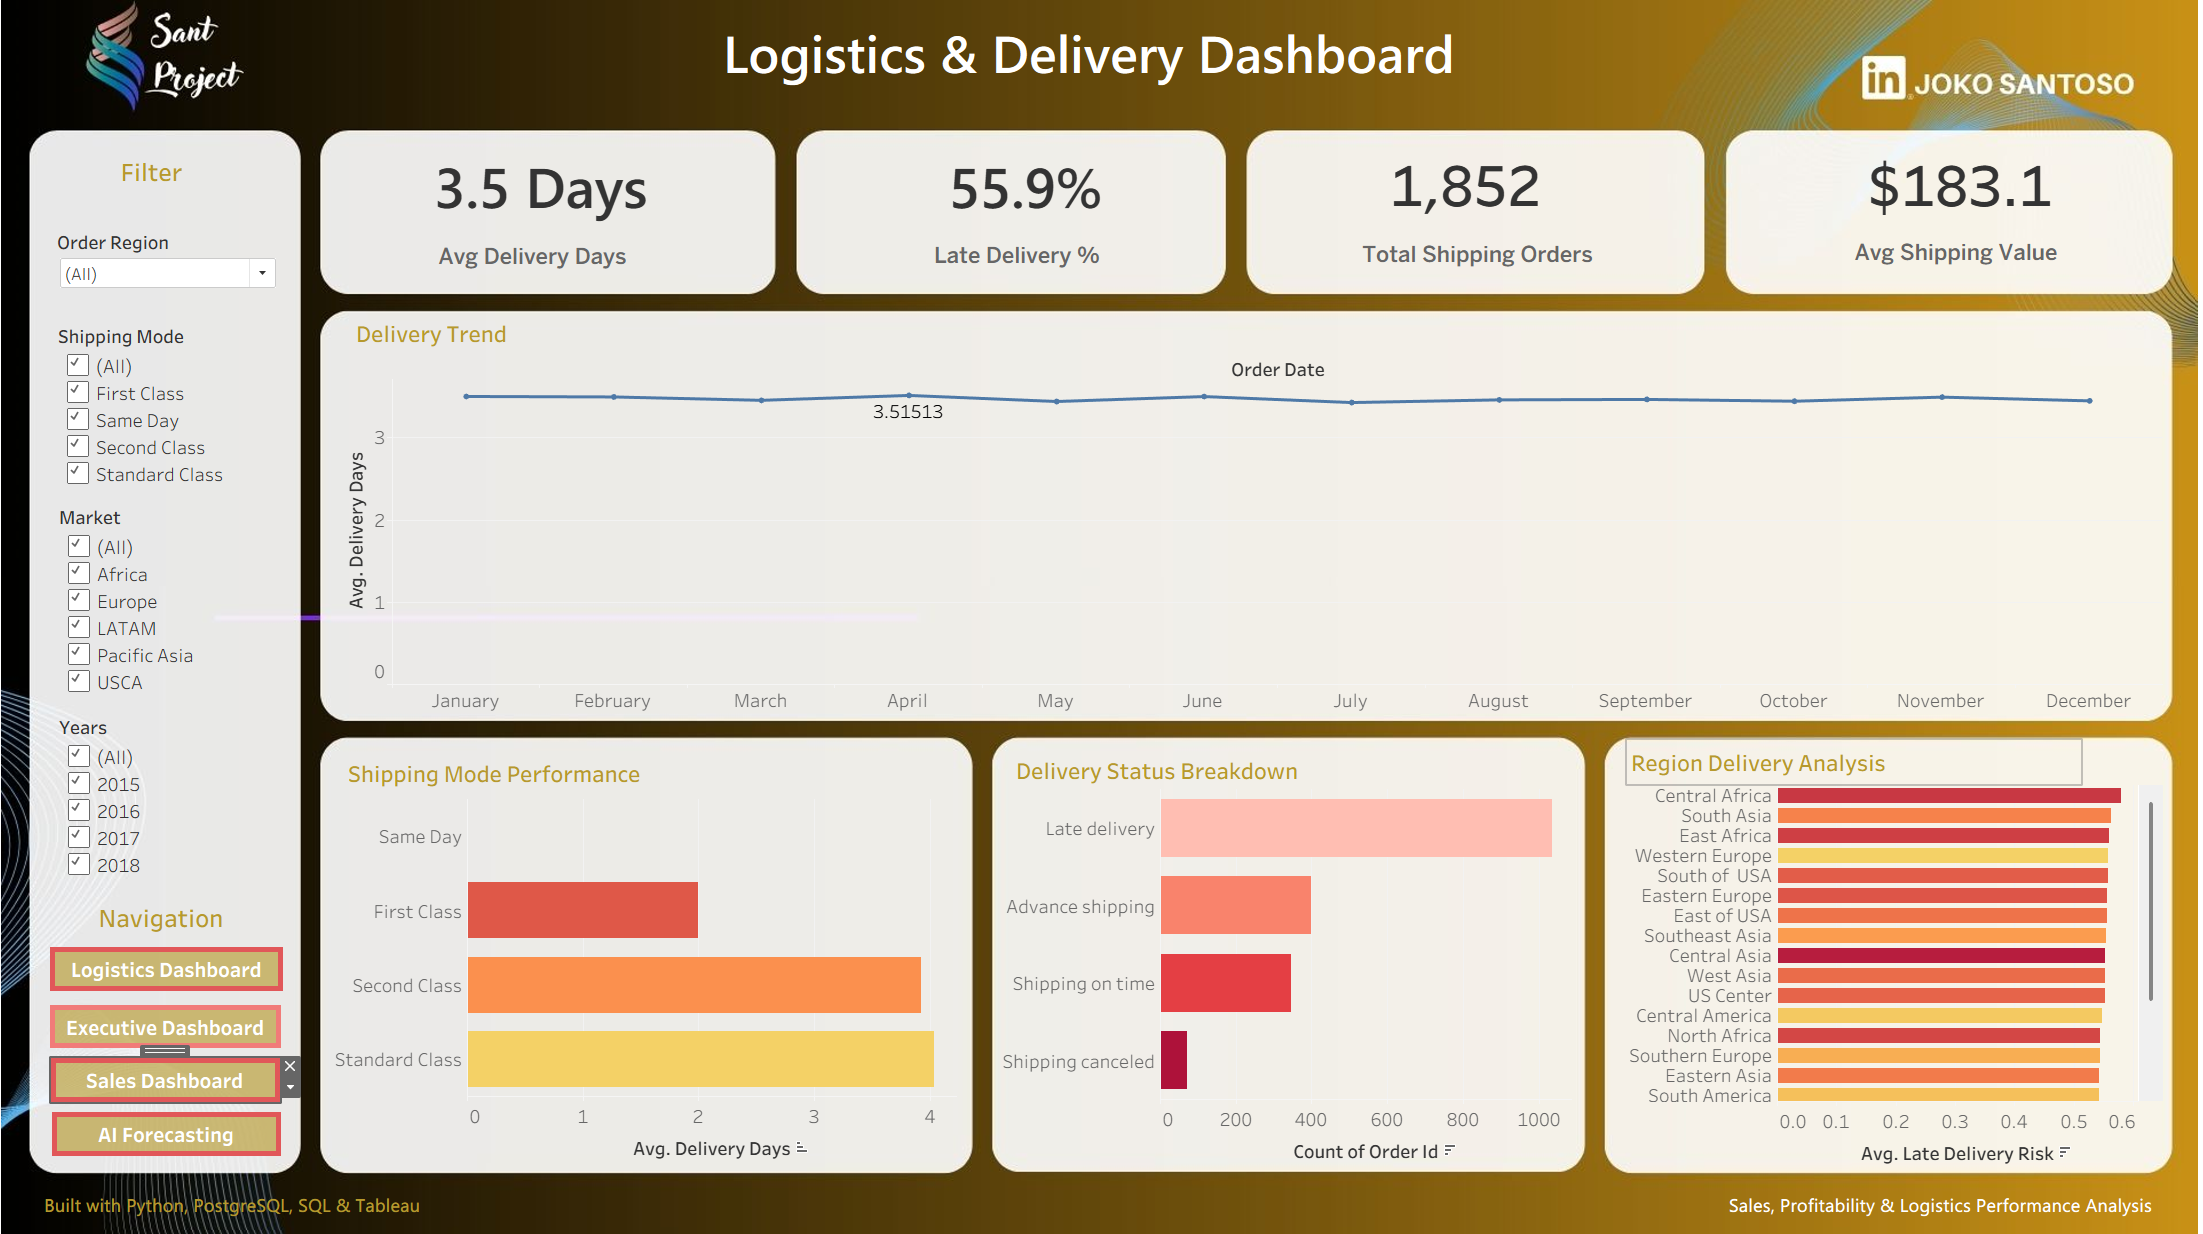

Layout of this report page (visuals, bound fields, positions):
{"tool":"tableau","page":{"name":"Logistics & Delivery Dashboard","canvas":[2220,1360],"ordinal":2},"visuals":[{"type":"text","box":[407,86.1,1386,127.1]},{"type":"worksheet","title":"KPI Total Shipping Orders","mark":"Automatic","box":[1396,242.9,220,97.4]},{"type":"worksheet","title":"KPI Avg Shipping Cost","mark":"Automatic","box":[1834,243,260,84]},{"type":"worksheet","title":"KPI Avg Delivery Days","mark":"Automatic","box":[411,246,262,81]},{"type":"worksheet","title":"KPI Late Delivery %","mark":"Automatic","box":[938,246,196,86.1]},{"type":"text","box":[103,252.1,119,33.8]},{"type":"filter","title":"Shipping Mode Performance","param":"[federated.1vegi2a0ab1bcw127uwzi0l9cpzs].[none:order_region:nk]","box":[68,326.9,222,108.6]},{"type":"text","box":[1822,331,290,40]},{"type":"text","box":[1358,333.1,261,40]},{"type":"text","box":[910,334.1,236,40]},{"type":"text","box":[405,335.1,277,40]},{"type":"text","box":[363,408.9,454,44.1]},{"type":"filter","title":"Shipping Mode Performance","param":"[federated.1vegi2a0ab1bcw127uwzi0l9cpzs].[none:shipping_mode:nk]","box":[69,421.2,214,171.2]},{"type":"worksheet","title":"Delivery Trend","mark":"Line","rows":["delivery_days"],"cols":["order_date"],"box":[347,457.1,1827,353.6]},{"type":"filter","title":"Shipping Mode Performance","param":"[federated.1vegi2a0ab1bcw127uwzi0l9cpzs].[none:market:nk]","box":[70,601.6,224,254.2]},{"type":"filter","title":"Shipping Mode Performance","param":"[federated.1vegi2a0ab1bcw127uwzi0l9cpzs].[yr:order_date:ok]","box":[70,811.7,228,202.9]},{"type":"text","box":[1638,838.3,454,44.1]},{"type":"text","box":[1023,845.5,454,44.1]},{"type":"text","box":[355,848.6,454,44.1]},{"type":"worksheet","title":"Region Delivery Analysis","mark":"Automatic","rows":["order_region"],"cols":["late_delivery_risk"],"box":[1628,883.4,546,387.4]},{"type":"worksheet","title":"Delivery Status Breakdown","mark":"Automatic","rows":["delivery_status"],"cols":["order_id"],"box":[1011,886.5,572,381.2]},{"type":"worksheet","title":"Shipping Mode Performance","mark":"Bar","rows":["shipping_mode"],"cols":["delivery_days"],"box":[338,896.8,630,367.9]},{"type":"text","box":[90,998.2,164,33.8]},{"type":"dashboard-object","box":[61,1045,233,44]},{"type":"dashboard-object","box":[61,1103,231,43]},{"type":"dashboard-object","box":[62,1156,229,44]},{"type":"dashboard-object","box":[63,1210,229,44]},{"type":"text","box":[51,1288,385,30]},{"type":"text","box":[1703,1288,464,30]}]}

Visuals, with their boxes on the page's 2220x1360 design canvas (x1, y1, x2, y2). These are canvas units, not pixel positions in the 2203x1234 screenshot, which may show the page scaled, cropped or inside an application window:
text: x1=407, y1=86, x2=1793, y2=213
"KPI Total Shipping Orders" worksheet: x1=1396, y1=243, x2=1616, y2=340
"KPI Avg Shipping Cost" worksheet: x1=1834, y1=243, x2=2094, y2=327
"KPI Avg Delivery Days" worksheet: x1=411, y1=246, x2=673, y2=327
"KPI Late Delivery %" worksheet: x1=938, y1=246, x2=1134, y2=332
text: x1=103, y1=252, x2=222, y2=286
"Shipping Mode Performance" filter: x1=68, y1=327, x2=290, y2=436
text: x1=1822, y1=331, x2=2112, y2=371
text: x1=1358, y1=333, x2=1619, y2=373
text: x1=910, y1=334, x2=1146, y2=374
text: x1=405, y1=335, x2=682, y2=375
text: x1=363, y1=409, x2=817, y2=453
"Shipping Mode Performance" filter: x1=69, y1=421, x2=283, y2=592
"Delivery Trend" worksheet (Line marks): x1=347, y1=457, x2=2174, y2=811
"Shipping Mode Performance" filter: x1=70, y1=602, x2=294, y2=856
"Shipping Mode Performance" filter: x1=70, y1=812, x2=298, y2=1015
text: x1=1638, y1=838, x2=2092, y2=882
text: x1=1023, y1=846, x2=1477, y2=890
text: x1=355, y1=849, x2=809, y2=893
"Region Delivery Analysis" worksheet: x1=1628, y1=883, x2=2174, y2=1271
"Delivery Status Breakdown" worksheet: x1=1011, y1=886, x2=1583, y2=1268
"Shipping Mode Performance" worksheet (Bar marks): x1=338, y1=897, x2=968, y2=1265
text: x1=90, y1=998, x2=254, y2=1032
dashboard-object: x1=61, y1=1045, x2=294, y2=1089
dashboard-object: x1=61, y1=1103, x2=292, y2=1146
dashboard-object: x1=62, y1=1156, x2=291, y2=1200
dashboard-object: x1=63, y1=1210, x2=292, y2=1254
text: x1=51, y1=1288, x2=436, y2=1318
text: x1=1703, y1=1288, x2=2167, y2=1318
